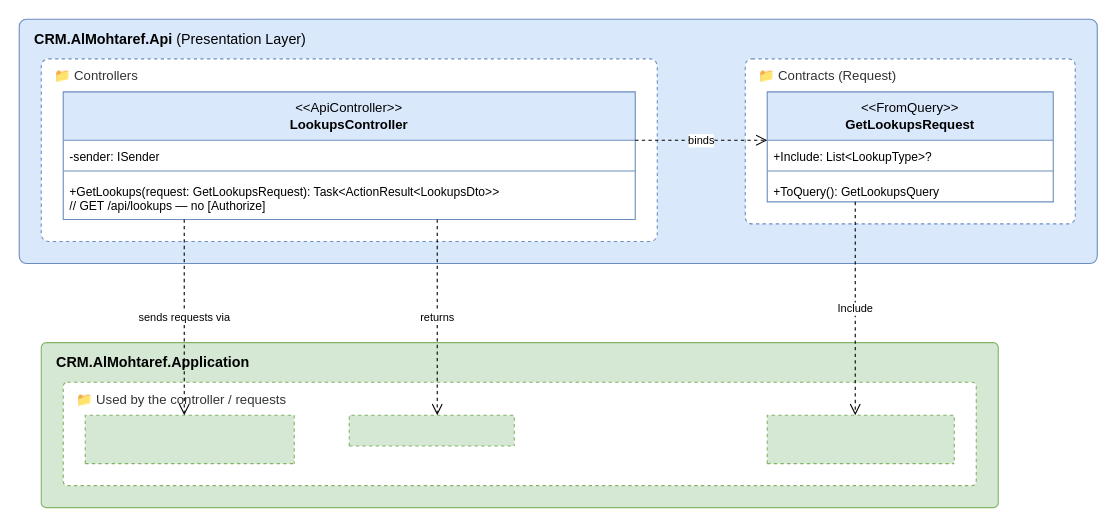
Image size: 1117x527. Some labels were removed from this diagram. The shapes that lost their labels are listed below. From the top down, each one's centre as x and y in pixels, then its label:
At (189,439): "<<interface (MediatR)>> ISender".
At (431,430): "LookupsDto".
At (860,439): "<<enumeration>> LookupType".
